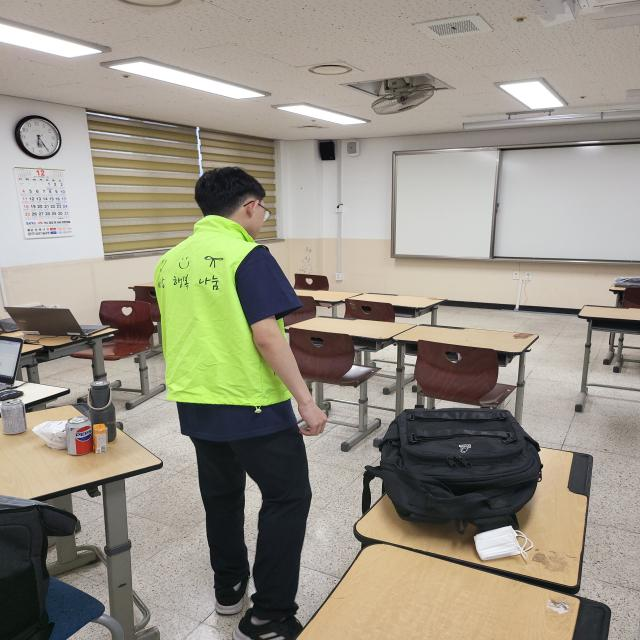weston_spy: (141, 208, 304, 416)
